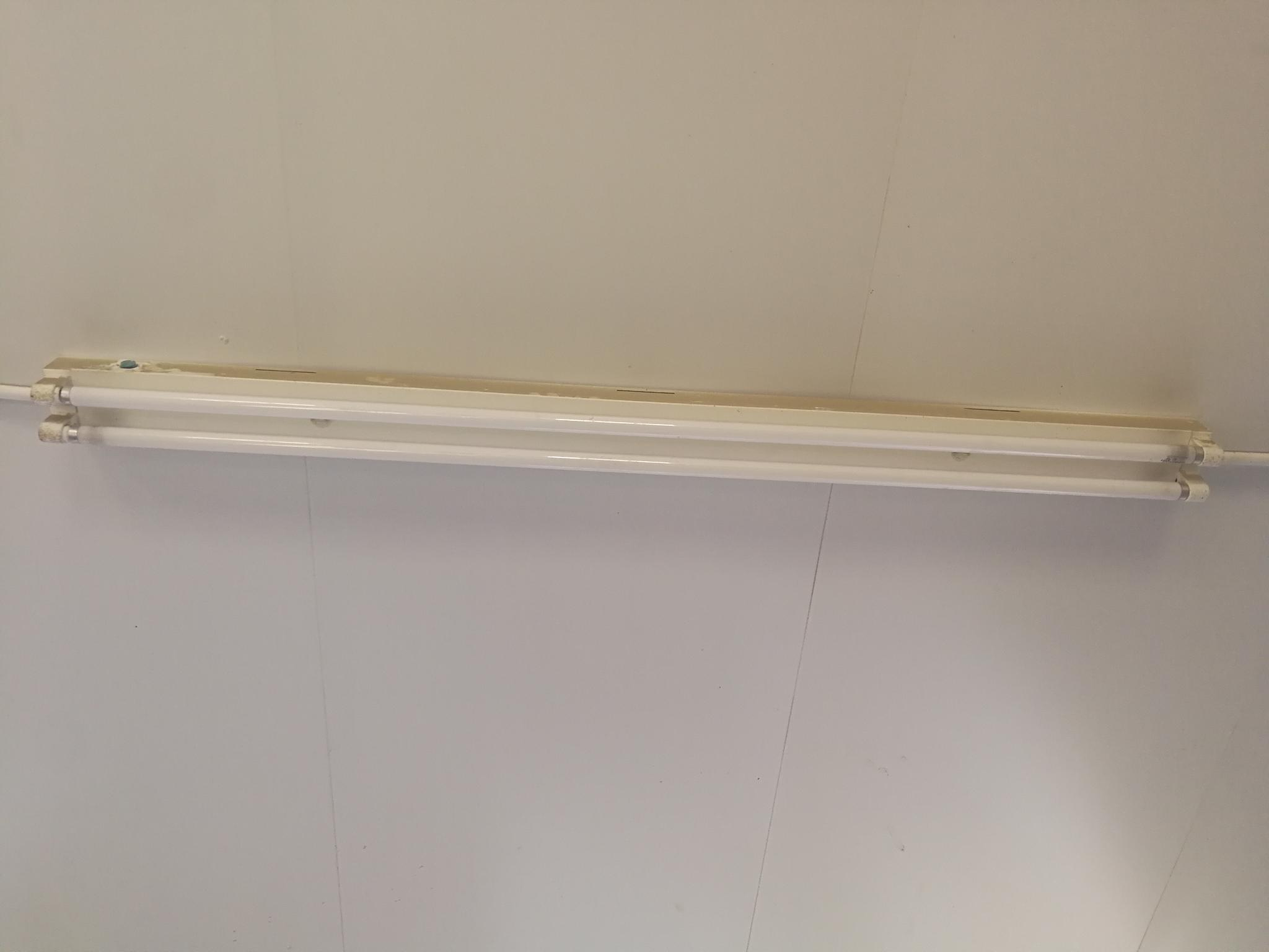light: (29, 355, 1221, 503)
